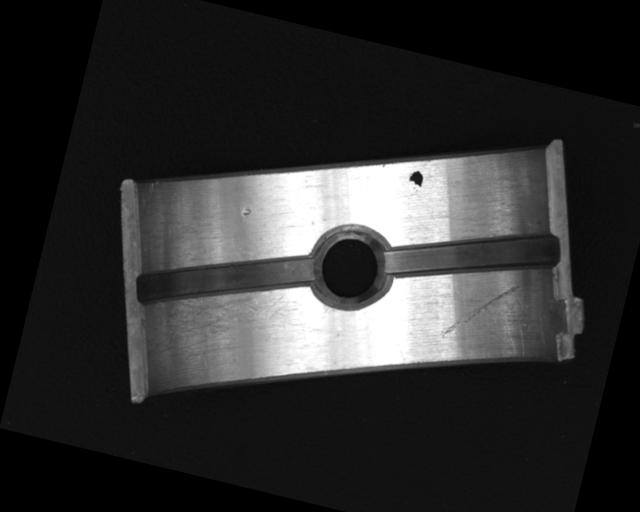blot: (405, 168, 425, 193)
bruise: (240, 205, 253, 218)
gap: (135, 219, 318, 340), (381, 197, 564, 312)
hole: (305, 217, 396, 314)
nick: (439, 270, 520, 353)
scratch: (145, 262, 304, 385)
